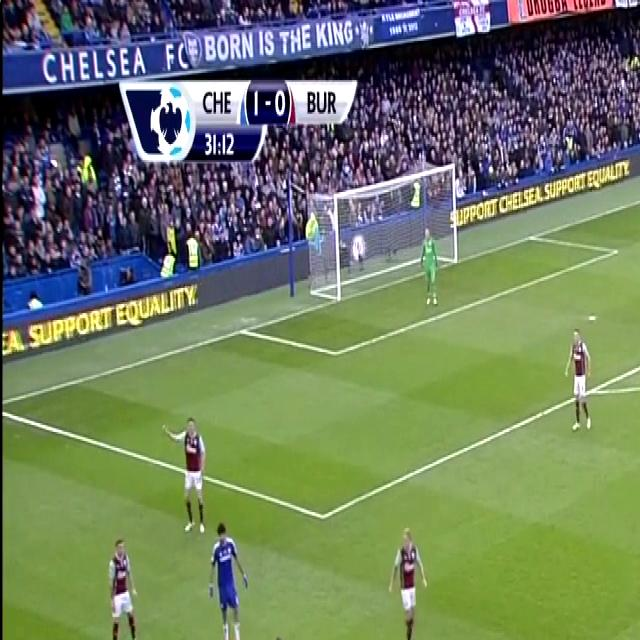goalkeeper: (416, 221, 441, 318)
soccer-player: (203, 514, 251, 640), (97, 524, 149, 640), (166, 402, 210, 538), (384, 517, 429, 640), (563, 318, 600, 442), (259, 627, 305, 640)
